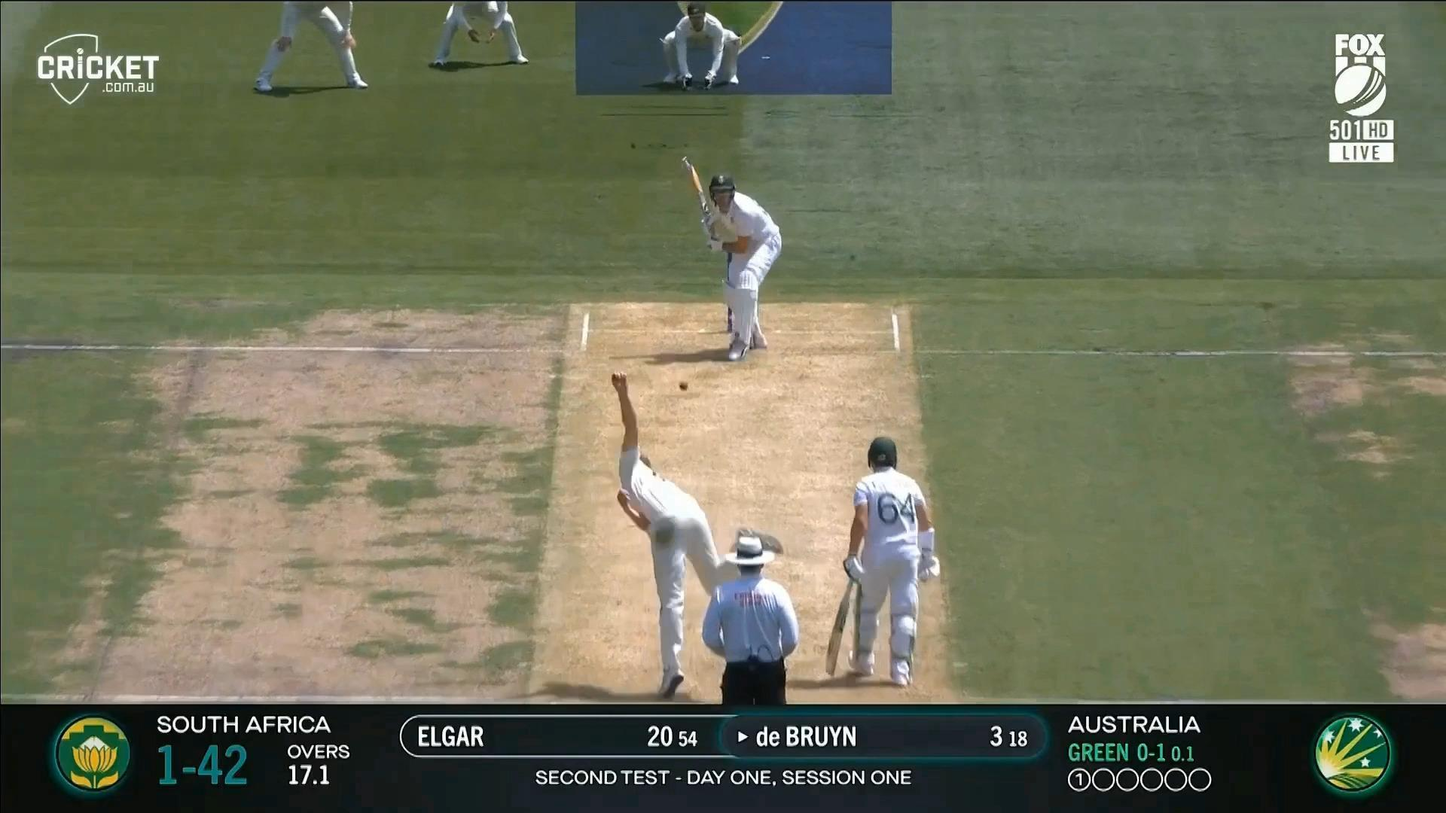BM 1: (682, 155, 782, 361)
BO: (611, 372, 784, 696)
